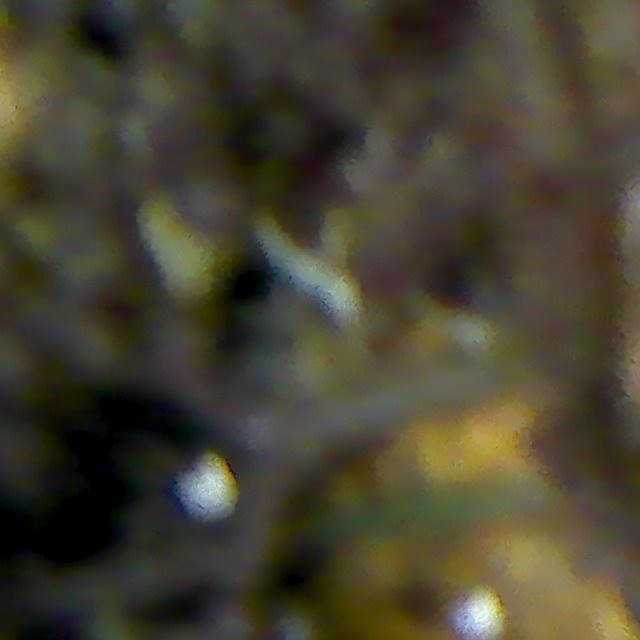SeaGrape: (0, 414, 57, 499), (253, 100, 316, 160)
